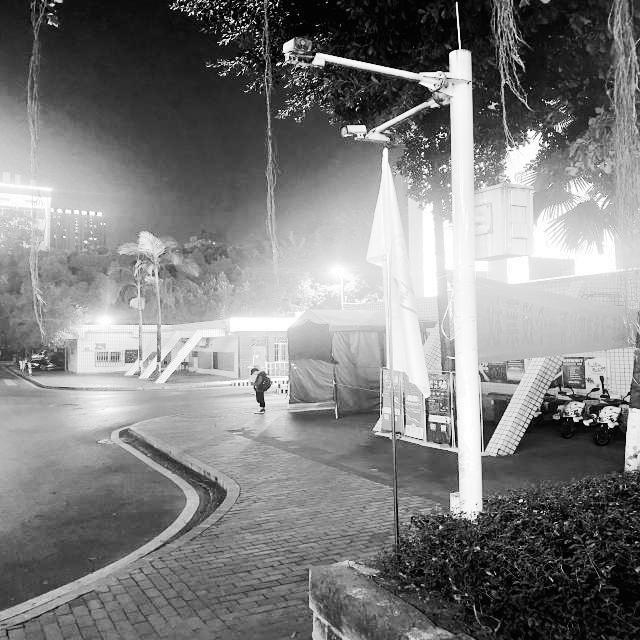Light: (314, 261, 363, 287), (90, 308, 124, 336)
